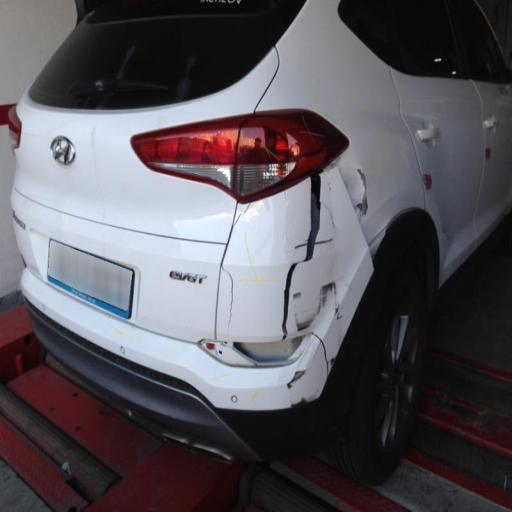broken: (191, 137, 390, 407)
